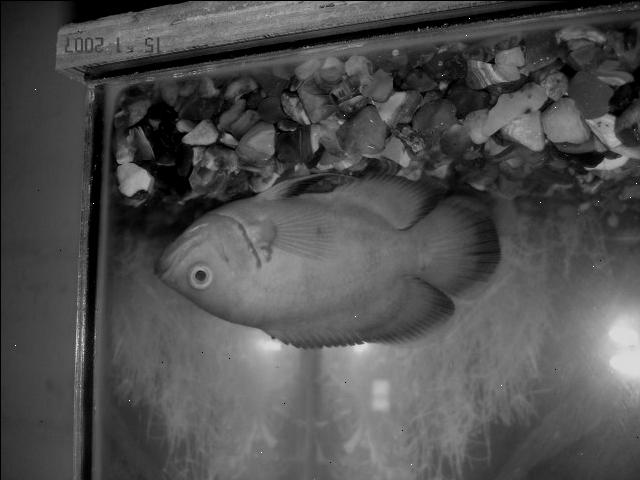Mulut: (138, 235, 192, 303)
Sirip Anal: (338, 168, 439, 240)
Sirip Dada: (246, 197, 346, 267)
Sirip Ekor: (423, 188, 509, 313)
Sirip Perut: (247, 168, 335, 206)
Sirip Punggung: (264, 282, 454, 362)
